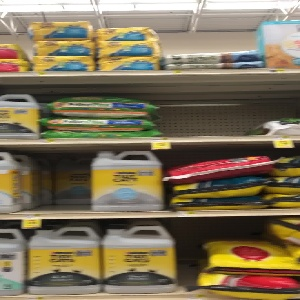void: (151, 74, 266, 139), (19, 141, 92, 215)
